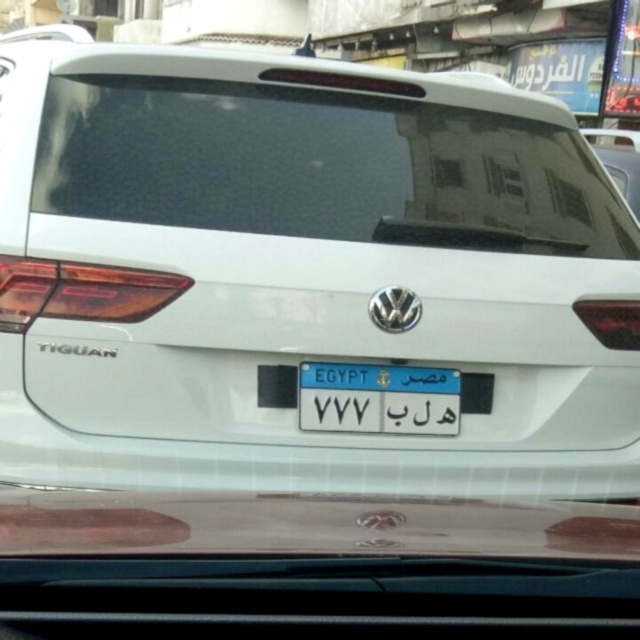License Plate: (294, 357, 466, 438)
